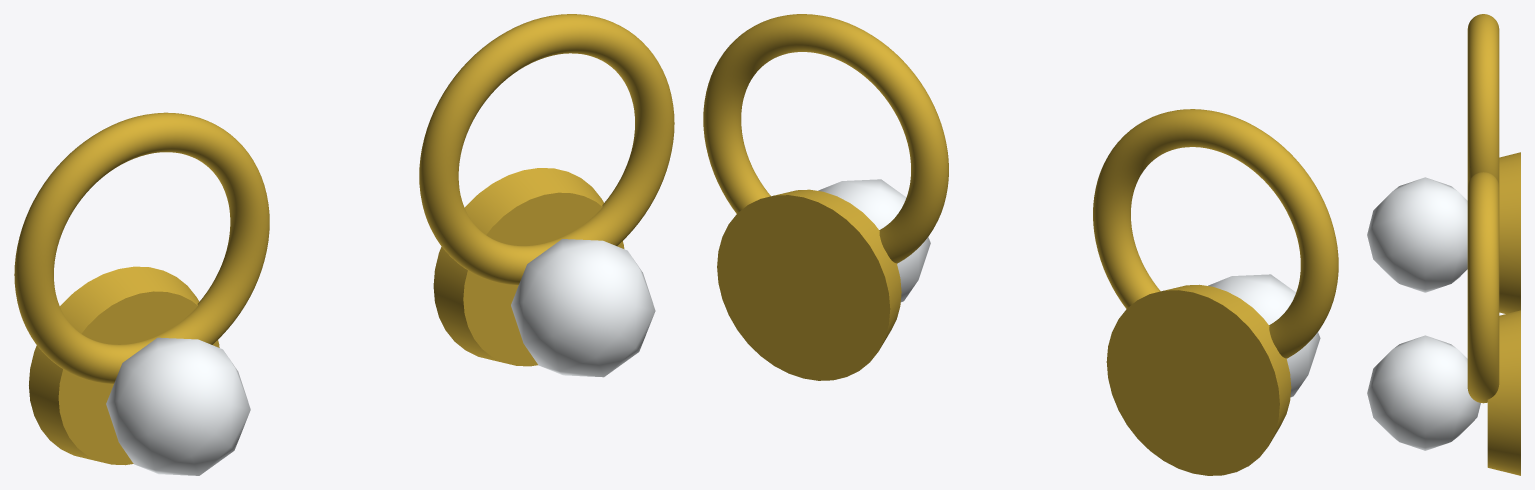
File: solstice-hoop-earrings.glb
The picture shows the model from 3 angles, left to right: view 1: azimuth 30°, elevation 25°; view 2: azimuth 150°, elevation 25°; view 3: azimuth 270°, elevation 25°; orthographic projection. The views are drawn at different scales.
Visible parts, largest first — view 1: earring_top (×2), stud_gem (×2), stud_base (×2); view 2: stud_base (×2), earring_top (×2), stud_gem (×2); view 3: stud_gem (×2), earring_top (×2), stud_base (×2).
Boxes of the visible parts, x1,y1,x2,y2 form: earring_top (×2): [14, 14, 674, 383]; stud_gem (×2): [106, 239, 655, 475]; stud_base (×2): [29, 168, 624, 465]; stud_base (×2): [717, 189, 1291, 475]; earring_top (×2): [703, 14, 1338, 358]; stud_gem (×2): [818, 179, 1320, 397]; stud_gem (×2): [1367, 177, 1480, 450]; earring_top (×2): [1467, 14, 1499, 403]; stud_base (×2): [1487, 152, 1520, 475].
Size of the model in its own units: 1.46 by 0.758 by 0.37.
